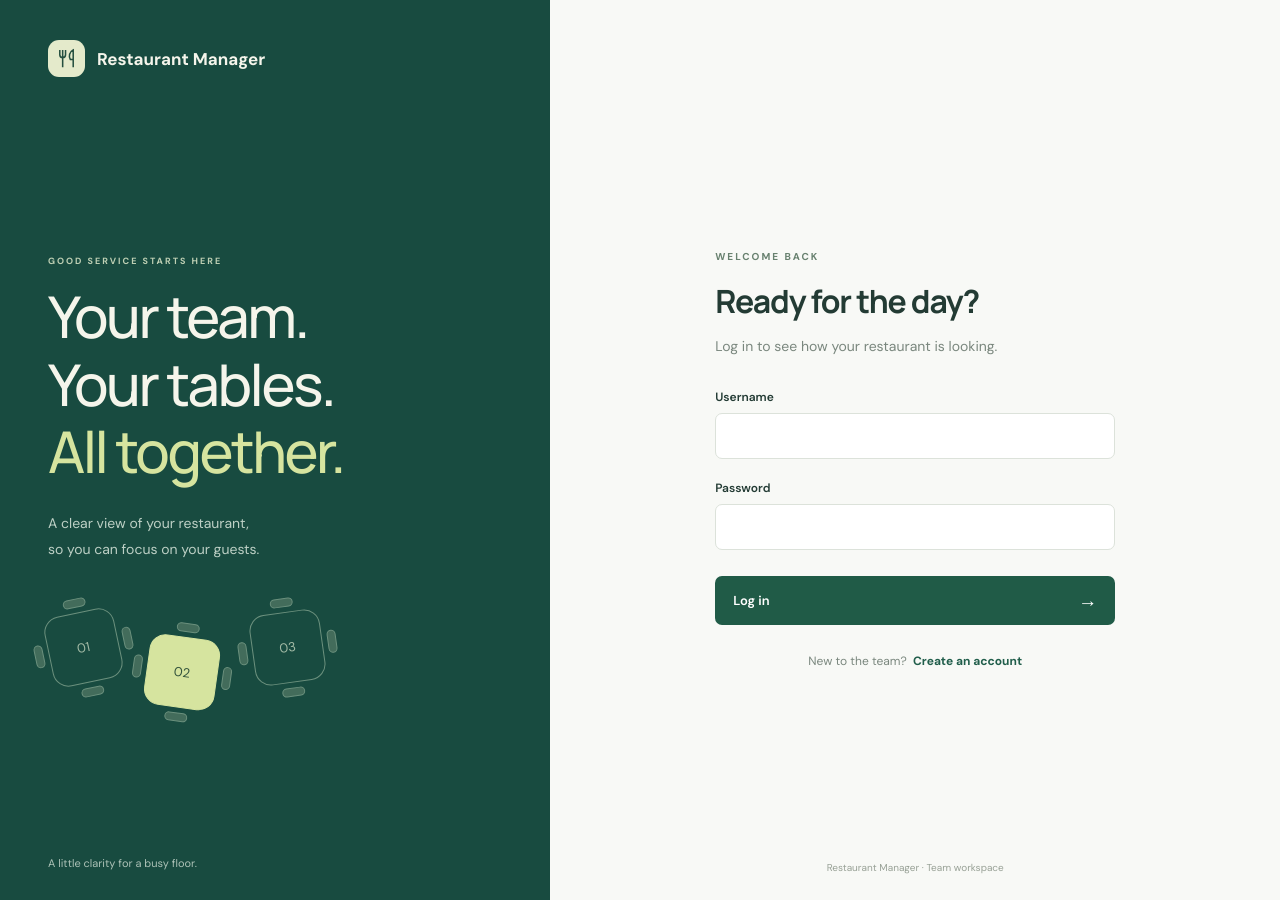
Scenario: sprint pages › shows a failed login without opening the dashboard
Type "alex" into the field labelled "Username". click: point(915, 436)
box: 715,413 -> 1115,459
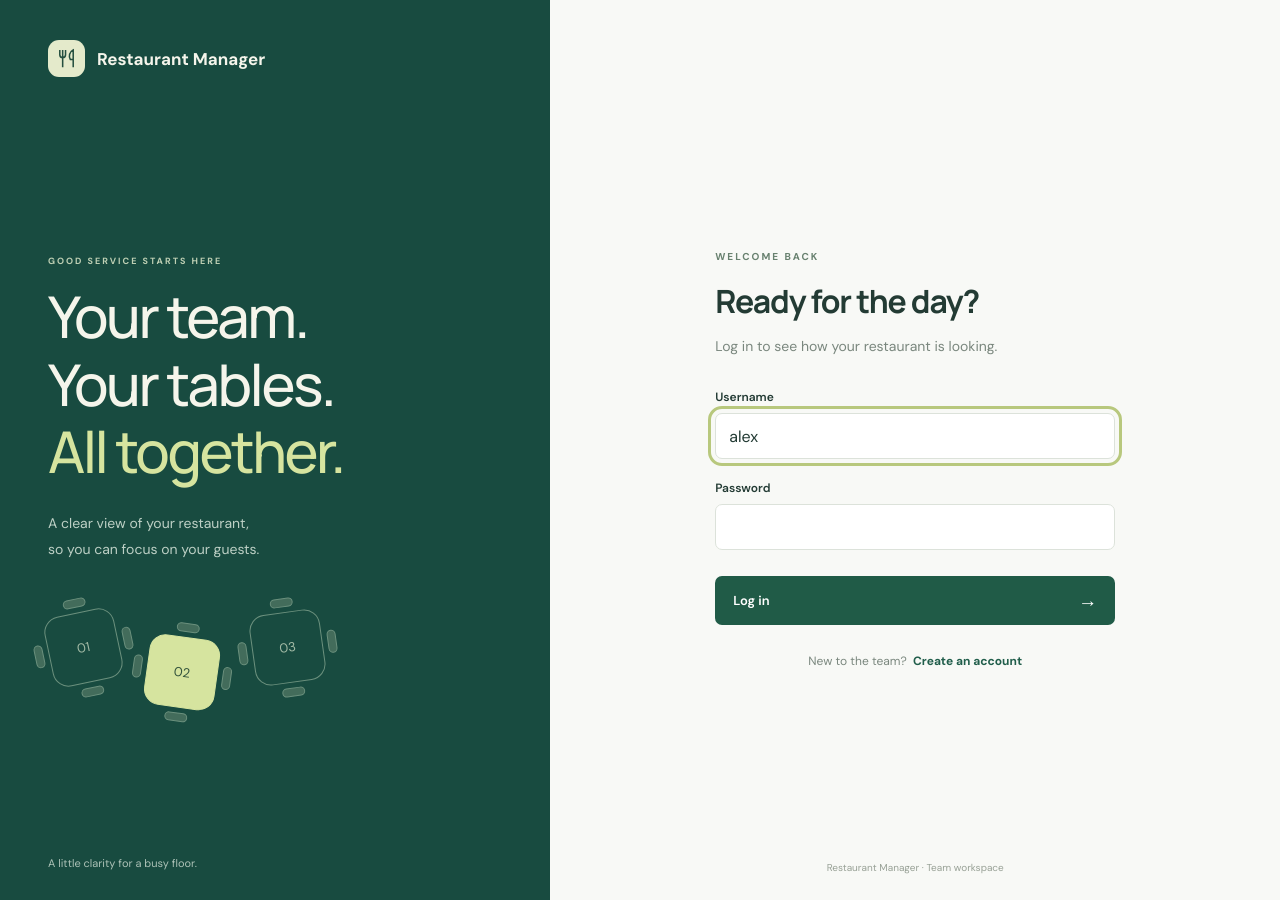
Type "simple" into the password field labelled "Password". click: point(915, 527)
box: 715,504 -> 1115,550
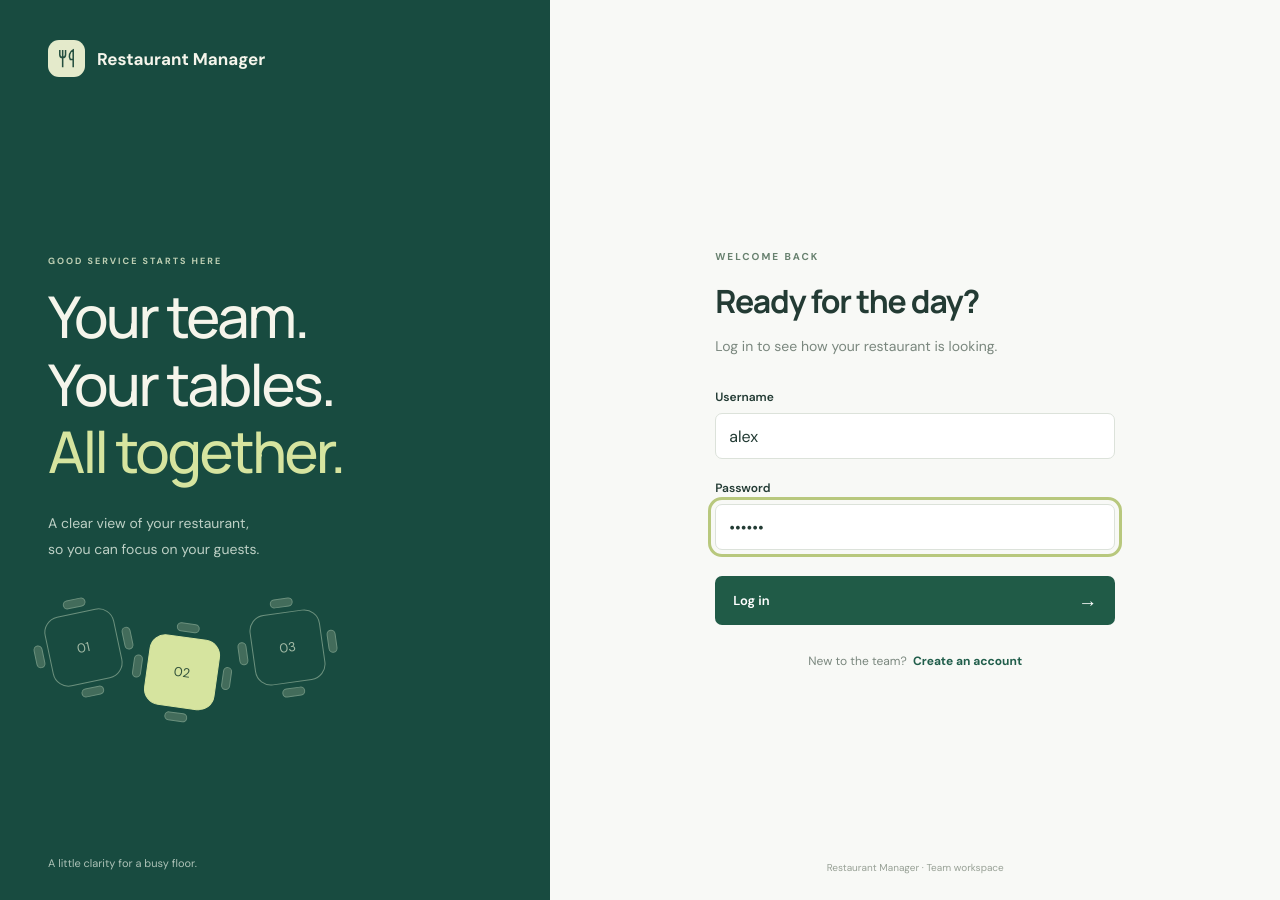
Click the button "Log in →". click: point(751, 600)
box: 715,576 -> 1115,625
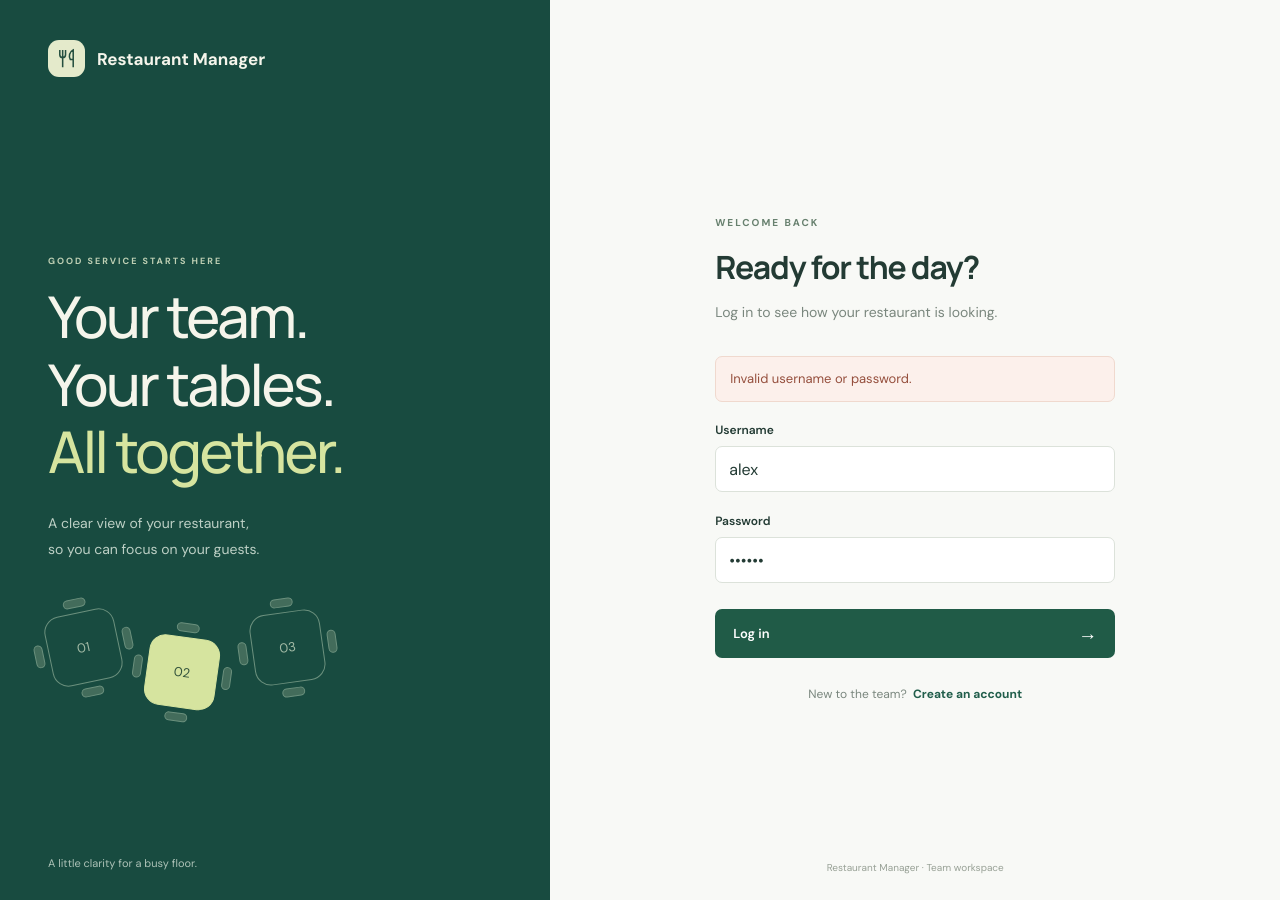
Check: the message shows "Invalid username", box 730,370 -> 912,387
